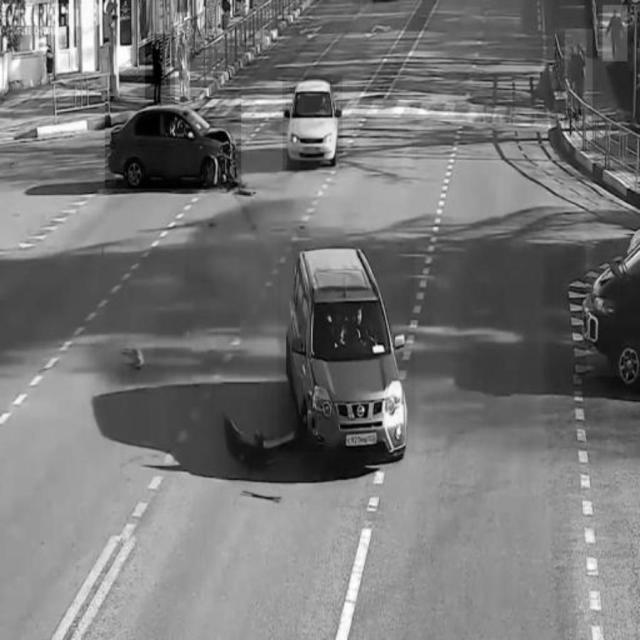person: (566, 29, 593, 109), (145, 34, 170, 100), (175, 13, 191, 103), (604, 6, 629, 62)
vehicle: (278, 243, 415, 453), (105, 97, 241, 189), (586, 235, 640, 377), (282, 75, 342, 169)
